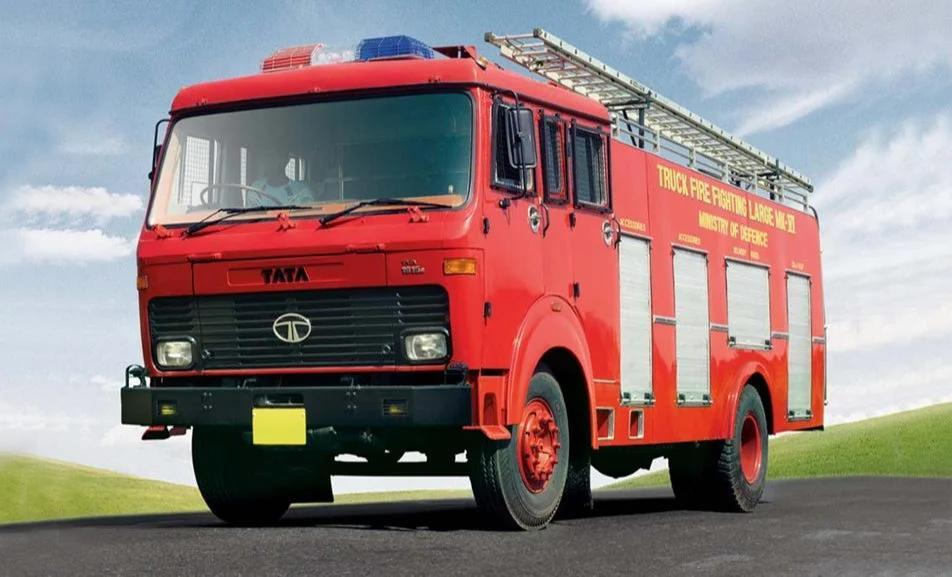Fire-engine: (119, 29, 827, 533), (491, 19, 832, 211), (253, 36, 434, 82)
